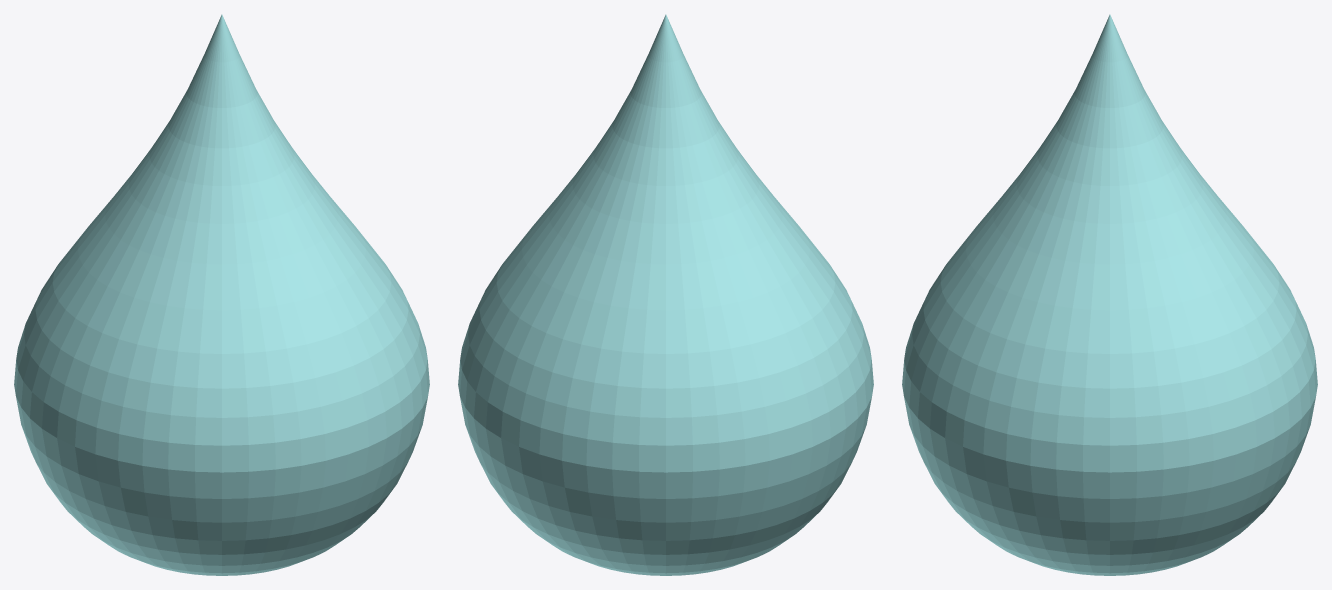
File: jeg2.obj
3 renders of one model, left to right at view 1: azimuth 30°, elevation 25°; view 2: azimuth 150°, elevation 25°; view 3: azimuth 270°, elevation 25°, orthographic.
Parts seen in each view (by area): view 1: Standard_Drop; view 2: Standard_Drop; view 3: Standard_Drop.
Boxes of the visible parts, x1=… form: Standard_Drop: x1=14, y1=14, x2=429, y2=575; Standard_Drop: x1=458, y1=14, x2=873, y2=575; Standard_Drop: x1=902, y1=14, x2=1317, y2=575.
Bounding box in the file's own units: 58.97 × 83.93 × 58.97.
1 material, 1 textured.
